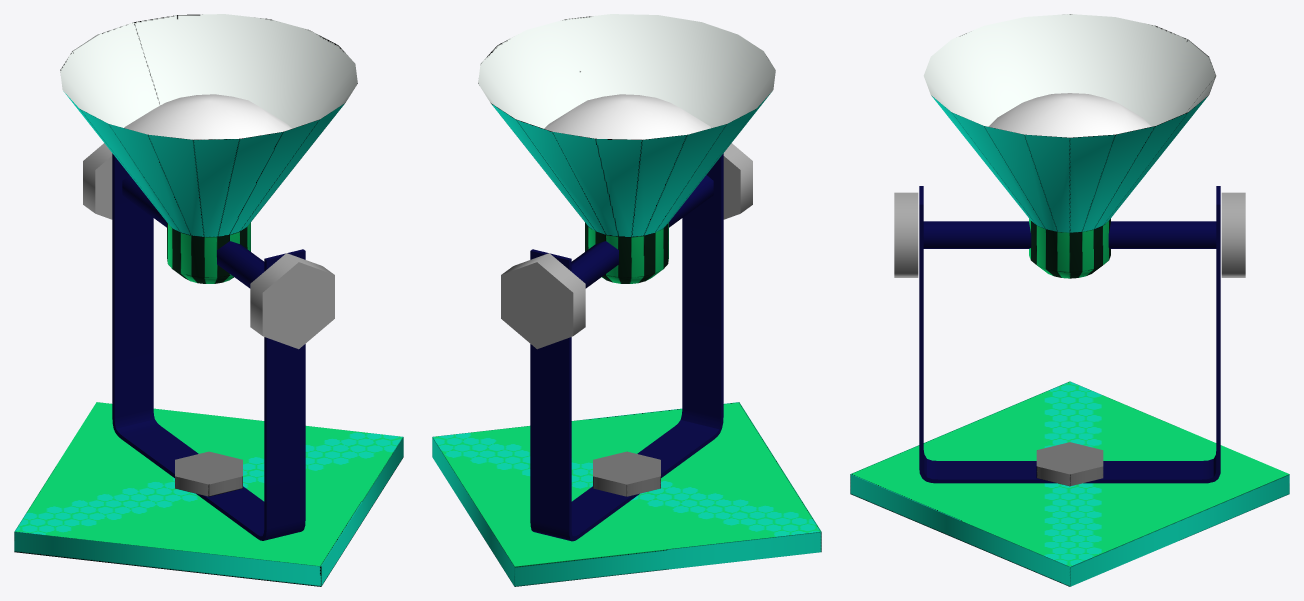
Rendered from FanLightSource.FBX.
The picture shows the model from 3 angles, left to right: view 1: azimuth 30°, elevation 25°; view 2: azimuth 150°, elevation 25°; view 3: azimuth 270°, elevation 25°; orthographic projection. The views are drawn at different scales.
Parts seen in each view (by area): view 1: Light, Base, Bar, Volt_Front, Lens, BaseVolt, Cylinder, Volt_Back; view 2: Light, Base, Bar, Volt_Back, Lens, BaseVolt, Cylinder, Volt_Front; view 3: Base, Light, Bar, Cylinder, Lens, BaseVolt, Volt_Front, Volt_Back.
Boxes of the visible parts, bbox=[...] form: Light: bbox=[60, 14, 357, 283]; Base: bbox=[14, 402, 403, 586]; Bar: bbox=[112, 153, 305, 540]; Volt_Front: bbox=[250, 253, 334, 349]; Lens: bbox=[124, 94, 291, 139]; BaseVolt: bbox=[175, 451, 242, 496]; Cylinder: bbox=[122, 175, 264, 288]; Volt_Back: bbox=[83, 143, 112, 219]; Light: bbox=[478, 14, 775, 283]; Base: bbox=[432, 402, 821, 586]; Bar: bbox=[530, 153, 723, 541]; Volt_Back: bbox=[501, 253, 585, 349]; Lens: bbox=[544, 94, 711, 139]; BaseVolt: bbox=[593, 451, 660, 496]; Cylinder: bbox=[571, 175, 713, 288]; Volt_Front: bbox=[723, 143, 752, 219]; Base: bbox=[850, 381, 1289, 586]; Light: bbox=[923, 14, 1216, 278]; Bar: bbox=[919, 186, 1220, 483]; Cylinder: bbox=[923, 221, 1216, 248]; Lens: bbox=[988, 93, 1151, 137]; BaseVolt: bbox=[1036, 442, 1103, 486]; Volt_Front: bbox=[894, 192, 918, 277]; Volt_Back: bbox=[1221, 192, 1245, 277].
Size of the model in its own units: 39.37 by 39.37 by 41.34.
1 material, 1 textured.
